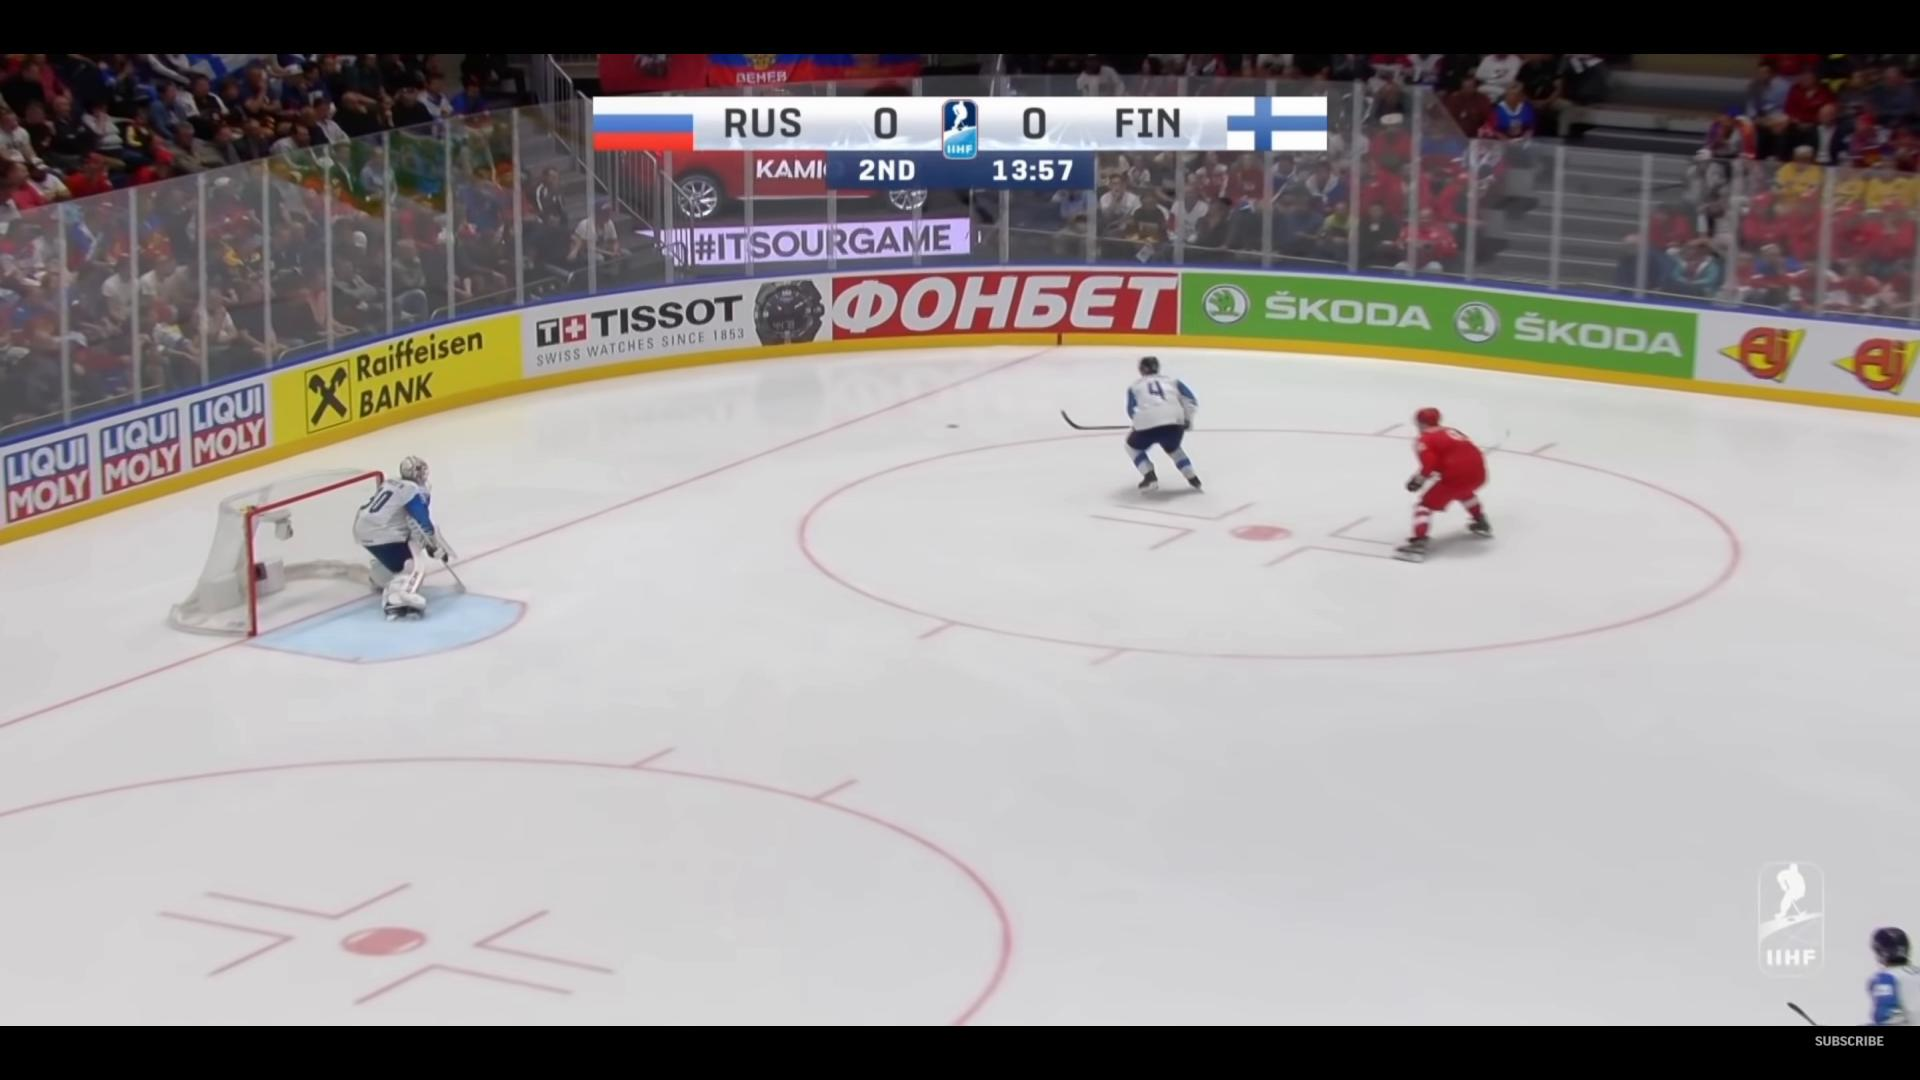puck: (944, 422, 959, 429)
